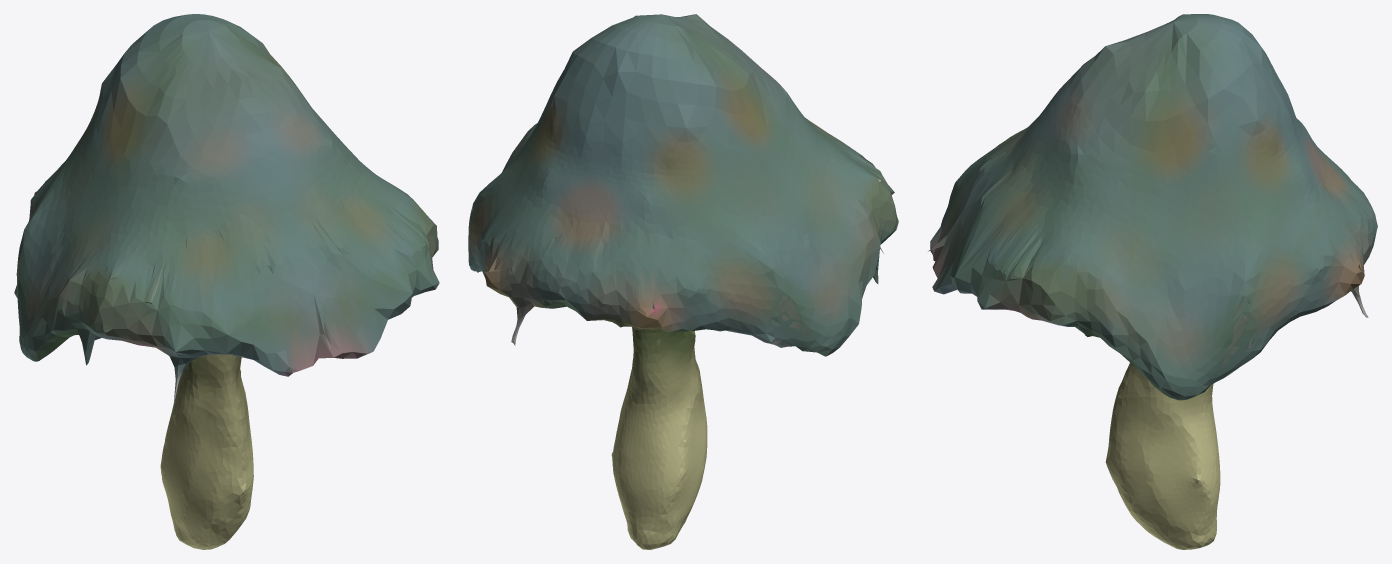
The model's file is fungoUn.fbx.
The picture shows the model from 3 angles, left to right: view 1: azimuth 30°, elevation 25°; view 2: azimuth 150°, elevation 25°; view 3: azimuth 270°, elevation 25°; orthographic projection.
Parts seen in each view (by area): view 1: Sphere; view 2: Sphere; view 3: Sphere.
Boxes of the visible parts, box(x1,y1,x2,y2) form: Sphere: box(14, 14, 439, 549); Sphere: box(468, 14, 898, 549); Sphere: box(928, 14, 1377, 549).
Size of the model in its own units: 354 by 468 by 363.
